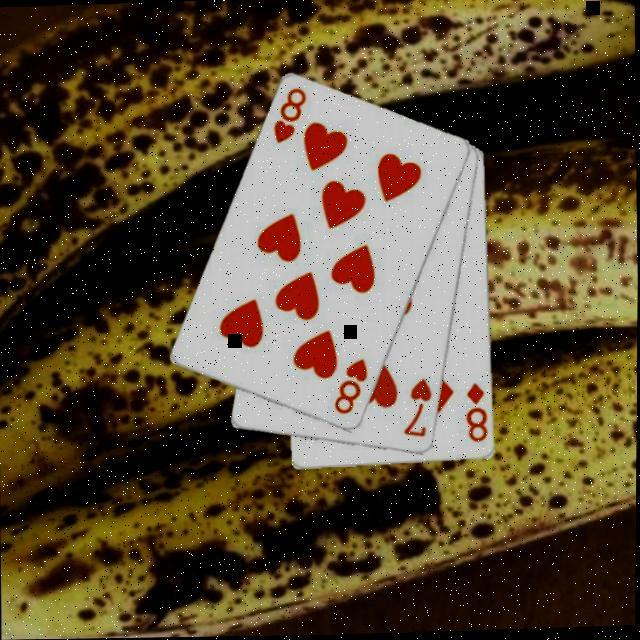7H: (400, 377, 434, 442)
8D: (462, 382, 490, 447)
8H: (268, 86, 310, 148), (330, 358, 370, 420)
